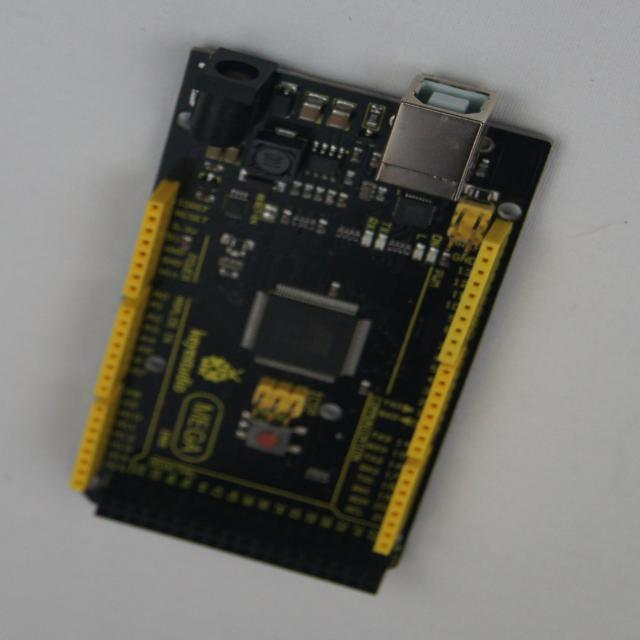Arduino Mega 2560 -Yellow-: (72, 48, 549, 594)
